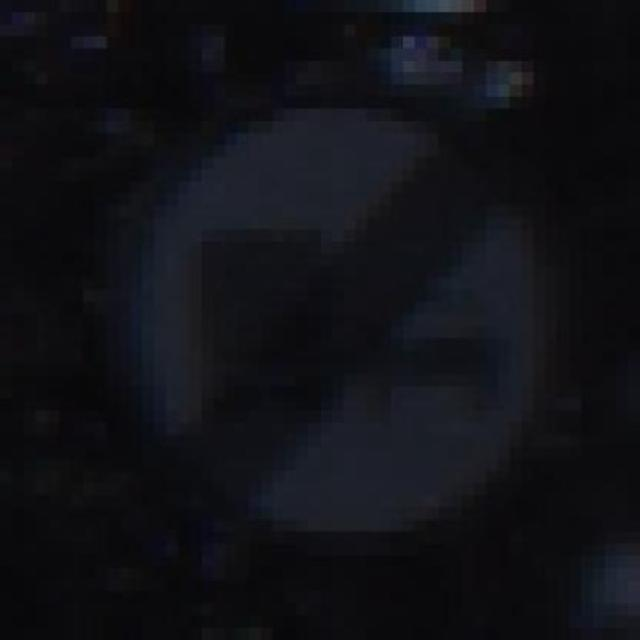Overtaking by trucks is prohibited: (94, 60, 568, 568)
